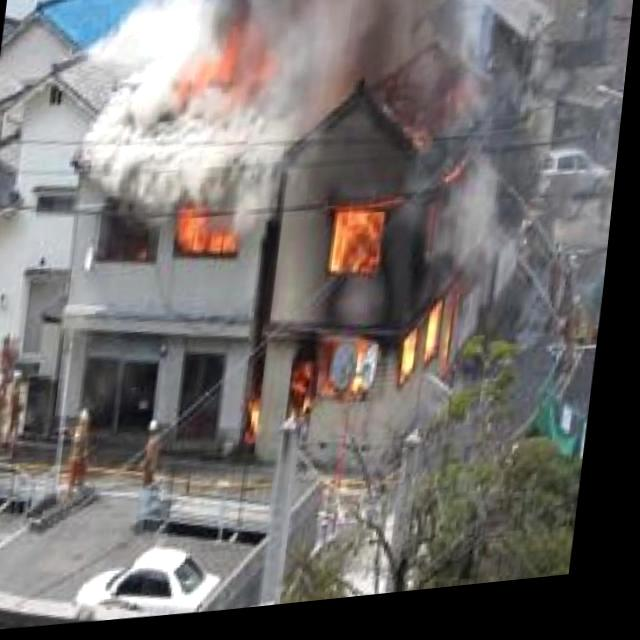fire: (296, 166, 480, 432), (180, 10, 296, 114), (174, 210, 253, 270)
